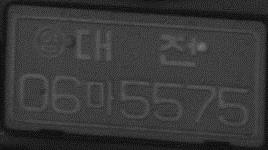0: (17, 71, 50, 112)
5: (151, 81, 185, 122), (217, 85, 250, 127), (119, 78, 150, 122)
6: (50, 74, 80, 115)
7: (185, 83, 217, 124)
대전_D: (74, 26, 197, 69)
마: (84, 80, 115, 117)
영: (32, 24, 67, 59)
